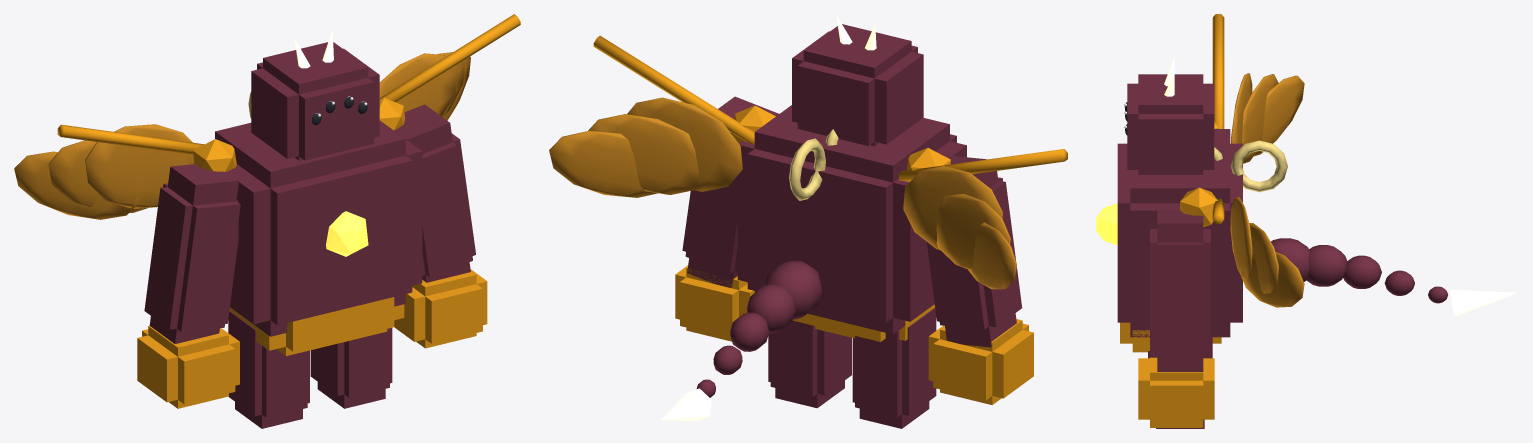
The model's file is volcano_totem_01.glb.
3 views of the same model, side by side, from view 1: azimuth 30°, elevation 25°; view 2: azimuth 150°, elevation 25°; view 3: azimuth 270°, elevation 25° (orthographic). The views are drawn at different scales.
Visible parts, largest first — view 1: box; view 2: box; view 3: box.
Boxes of the visible parts, <box> form: box: <box>14,14,520,428</box>; box: <box>549,14,1067,428</box>; box: <box>1096,14,1517,428</box>.
Size of the model in its own units: 2.52 by 1.95 by 2.21.
